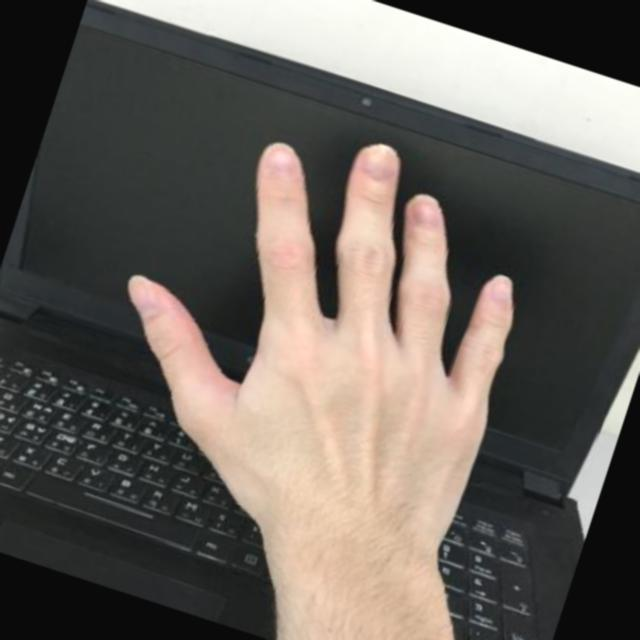hand: (36, 59, 598, 634)
